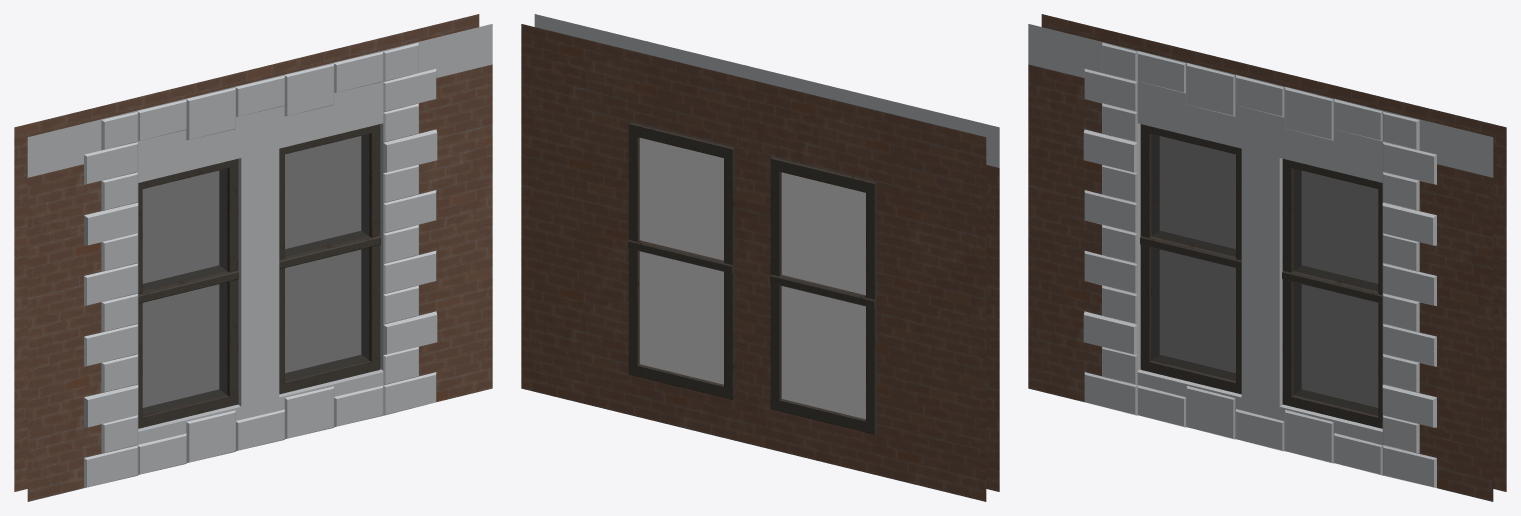
Rendered from Brick_RedWhite_DoubleWindow.gltf.
3 views of the same model, side by side, from view 1: azimuth 30°, elevation 25°; view 2: azimuth 150°, elevation 25°; view 3: azimuth 330°, elevation 25° (orthographic).
Parts seen in each view (by area): view 1: Brick_RedWhite_DoubleWindow; view 2: Brick_RedWhite_DoubleWindow; view 3: Brick_RedWhite_DoubleWindow.
Boxes of the visible parts, x1,y1,x2,y2 form: Brick_RedWhite_DoubleWindow: [14, 14, 492, 501]; Brick_RedWhite_DoubleWindow: [521, 14, 999, 501]; Brick_RedWhite_DoubleWindow: [1028, 14, 1506, 501].
Bounding box in the file's own units: 4 × 3 × 0.2773.
Materials: 6 (3 with a texture image).
